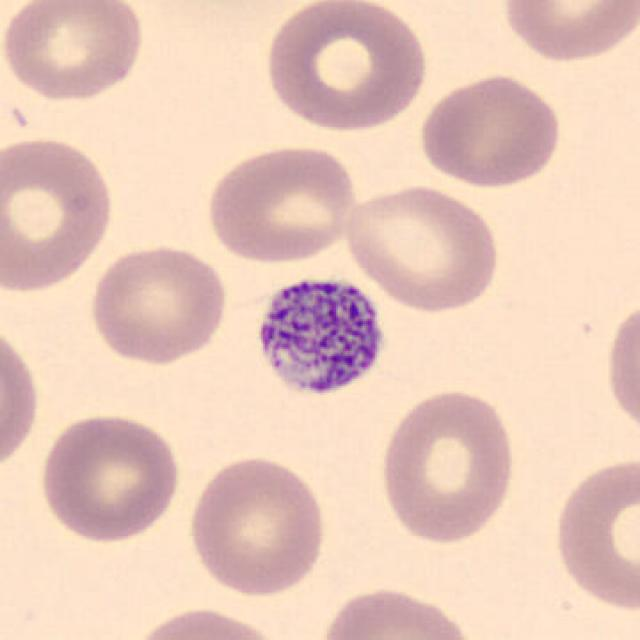Platelets: (243, 262, 393, 410)
RBC: (375, 384, 521, 546), (260, 0, 432, 134), (183, 452, 333, 600), (341, 180, 503, 316), (35, 409, 185, 545), (201, 140, 361, 266), (0, 132, 119, 296), (85, 240, 231, 368), (414, 69, 566, 190), (0, 0, 148, 104), (548, 451, 638, 617), (314, 582, 482, 640), (498, 0, 638, 65), (0, 316, 43, 480), (126, 603, 288, 640), (601, 293, 640, 444)
